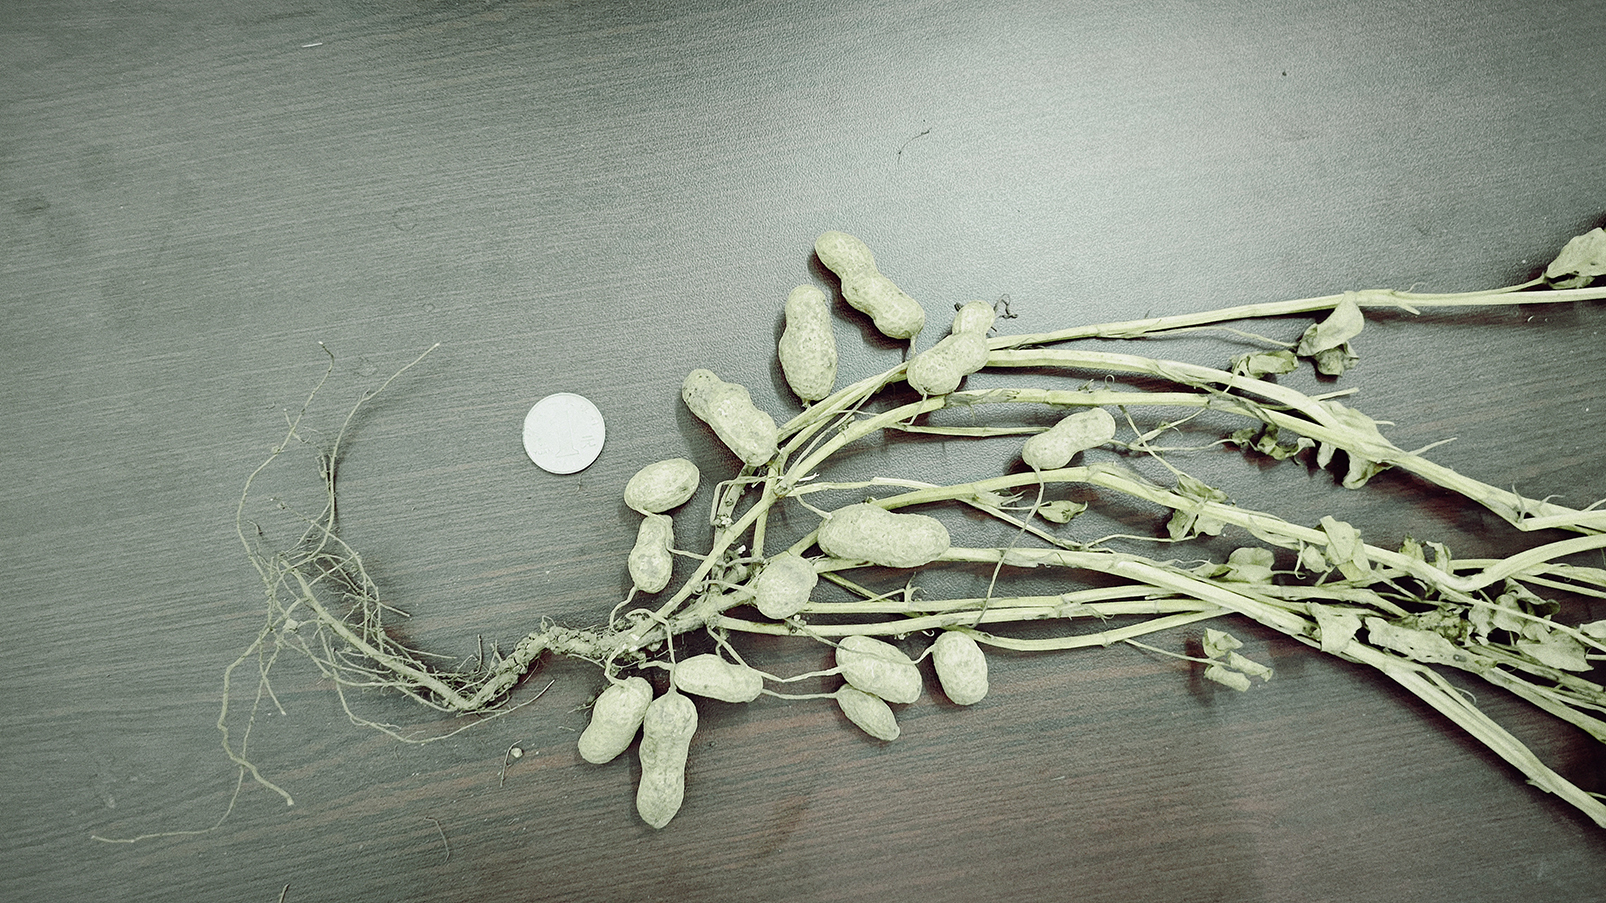h: (812, 230, 927, 337), (679, 366, 778, 465), (635, 694, 700, 831), (907, 298, 995, 398), (818, 503, 950, 568), (574, 674, 654, 766), (778, 284, 838, 404), (1023, 404, 1117, 470), (835, 635, 923, 705), (673, 654, 765, 703), (624, 513, 679, 594), (754, 550, 816, 620), (624, 458, 699, 513), (935, 631, 988, 706), (835, 687, 903, 741)
